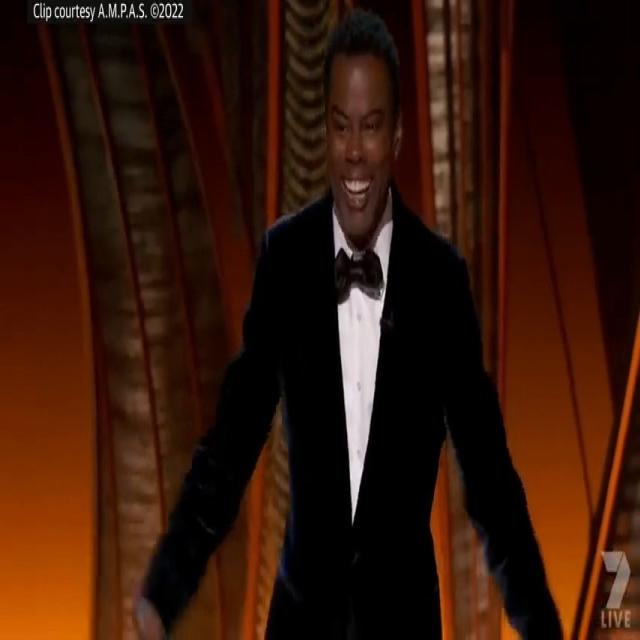non-fight: (113, 6, 579, 640)
